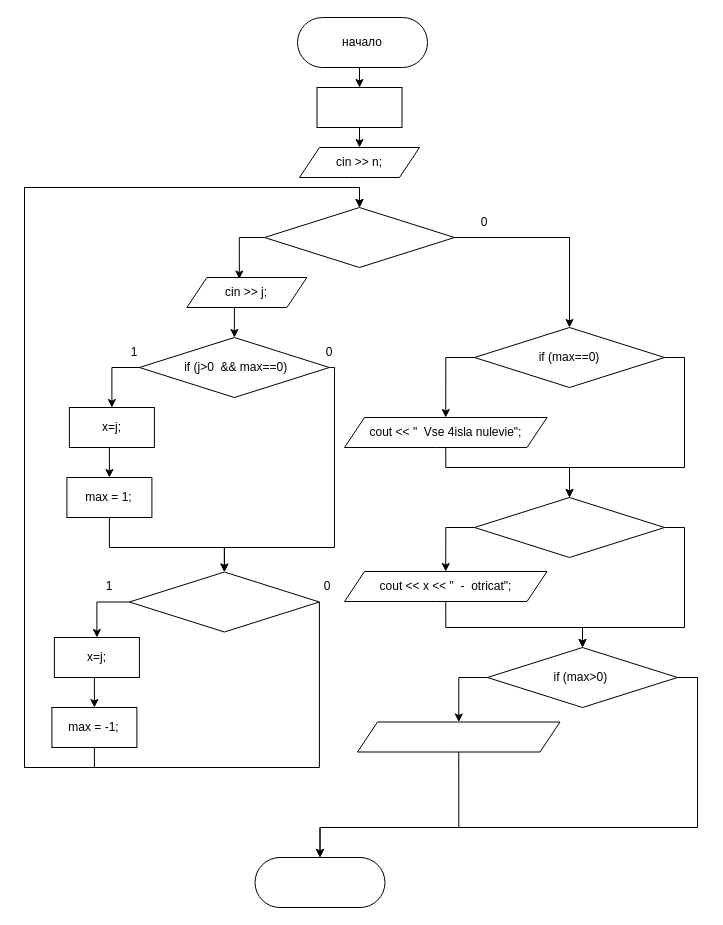
The diagram is 723 pixels wide and 925 high, and some of its shapes have lost their labels. Each missing label, with the box of its shape:
cout << x << " - pologit";: (356, 721, 560, 752)
for (i=1; i<=n; i++): (264, 206, 454, 268)
if (j<0 && max==0): (128, 571, 319, 632)
if (max<0): (474, 496, 664, 558)
int n,i,j, max,x;: (316, 86, 402, 128)
конец: (254, 856, 385, 908)
